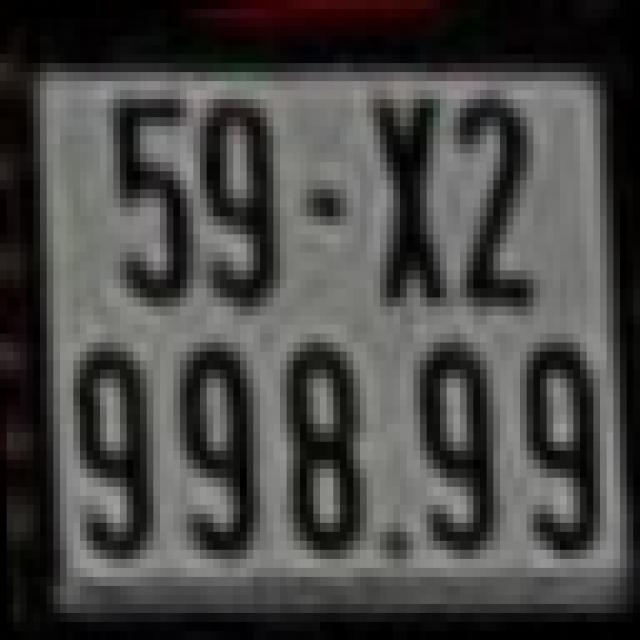2: (453, 90, 540, 307)
5: (114, 90, 194, 307)
8: (286, 333, 366, 559)
9: (520, 333, 600, 559), (414, 333, 494, 559), (174, 342, 254, 559), (200, 90, 280, 307), (74, 342, 154, 559)
X: (373, 90, 447, 298)
